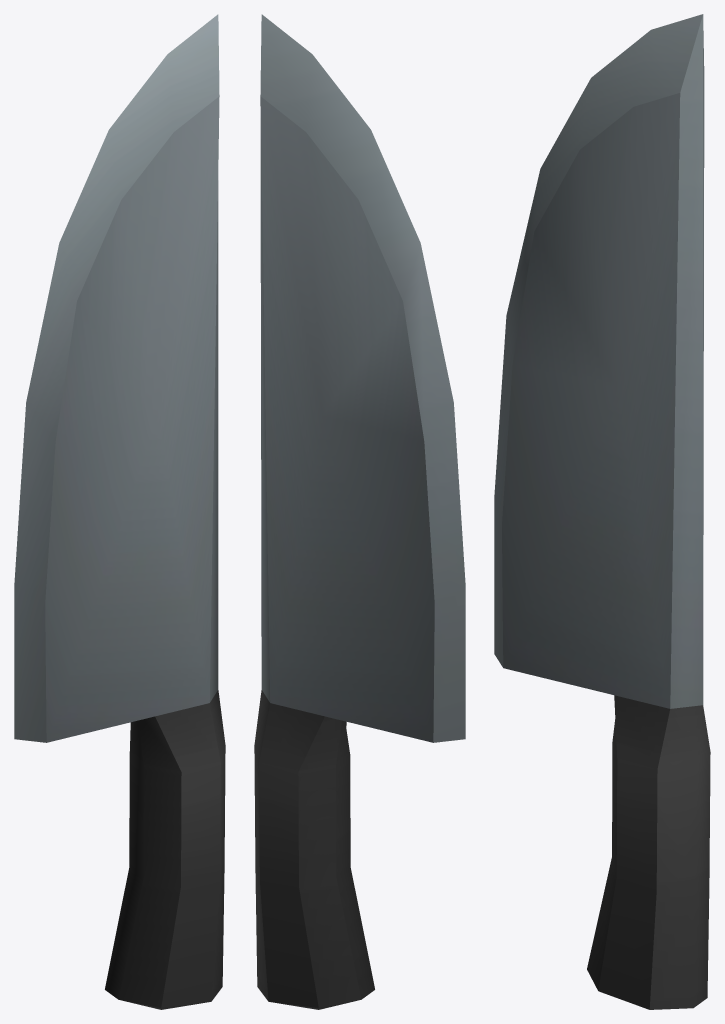
Rendered from knife.glb.
3 views of the same model, side by side, from view 1: azimuth 30°, elevation 25°; view 2: azimuth 150°, elevation 25°; view 3: azimuth 330°, elevation 25° (orthographic). The views are drawn at different scales.
Parts seen in each view (by area): view 1: knife; view 2: knife; view 3: knife.
Boxes of the visible parts, <box> form: knife: <box>14,14,225,1009</box>; knife: <box>254,14,465,1009</box>; knife: <box>494,14,710,1009</box>.
Bounding box in the file's own units: 0.25 × 1.15 × 0.1.
1 material, 1 textured.
